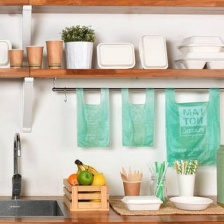plastic_bag: (162, 83, 223, 171), (72, 84, 114, 153), (117, 85, 158, 152)
